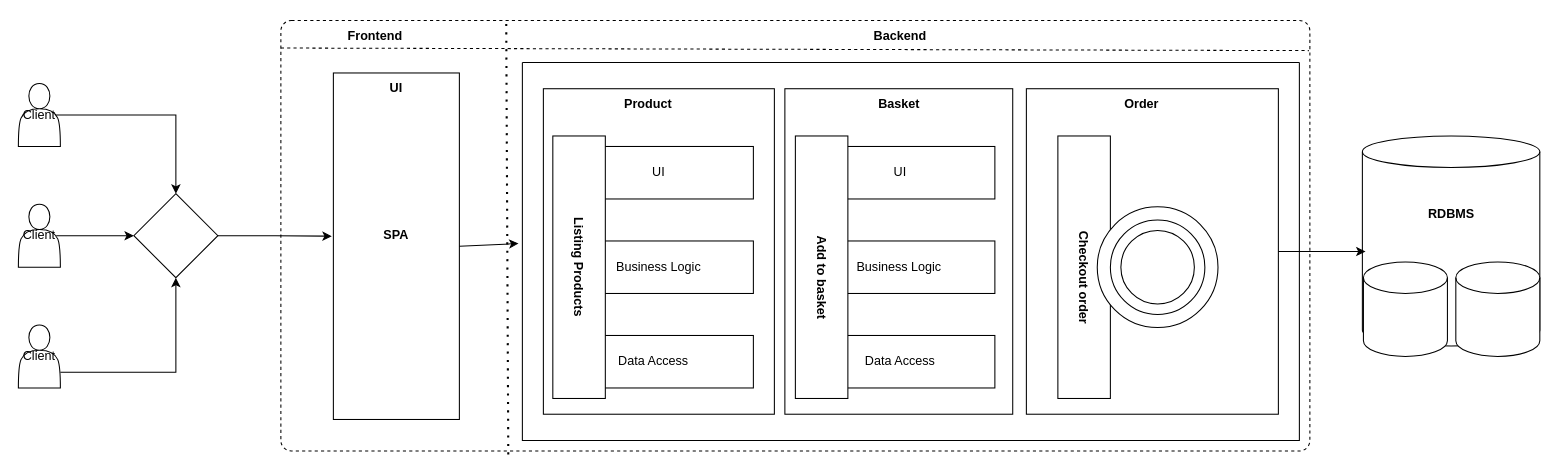
This 1558x475 diagram has some shape labels left out. Each missing label, with the centre of its shape:
Clean Architecture: (1157,266)
load balancer: (175,235)
Order Schema: (1497,308)
Product Schema: (1404,308)
